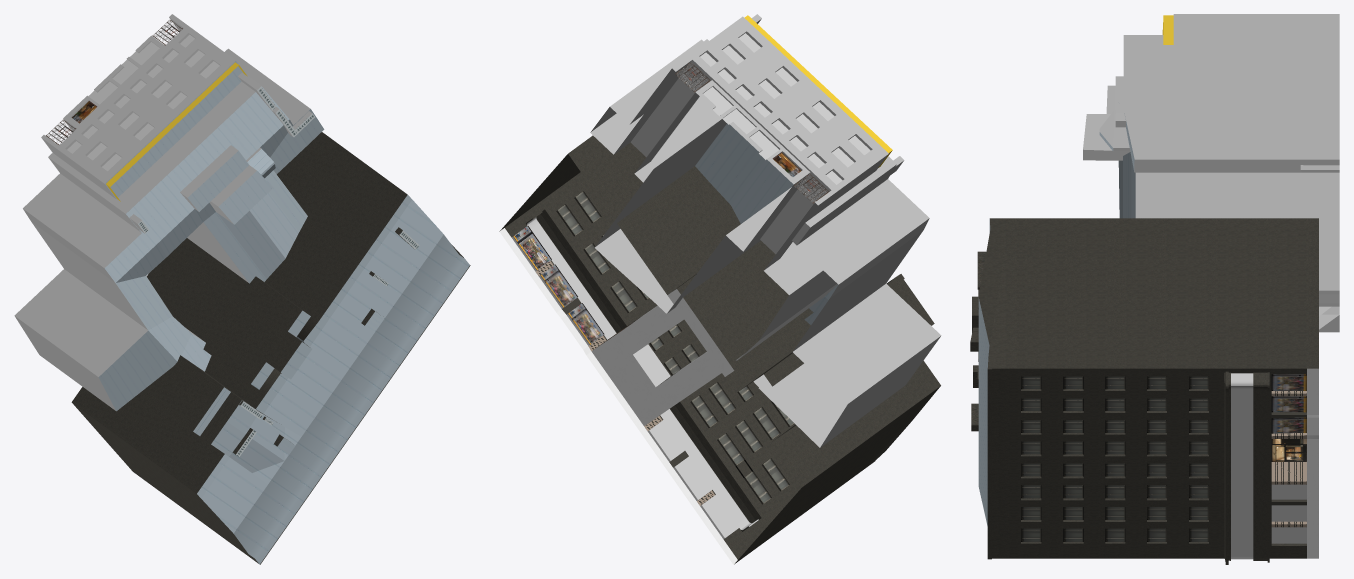
File: Parnu_mnt_6.obj
3 views of the same model, side by side, from view 1: azimuth 30°, elevation 25°; view 2: azimuth 150°, elevation 25°; view 3: azimuth 270°, elevation 25° (orthographic). The views are drawn at different scales.
Parts seen in each view (by area): view 1: polySurface2; view 2: polySurface2; view 3: polySurface2.
Boxes of the visible parts, bbox=[...] form: polySurface2: bbox=[14, 14, 470, 564]; polySurface2: bbox=[499, 14, 941, 564]; polySurface2: bbox=[970, 14, 1339, 564].
Size of the model in its own units: 42.06 by 54.44 by 31.69.
